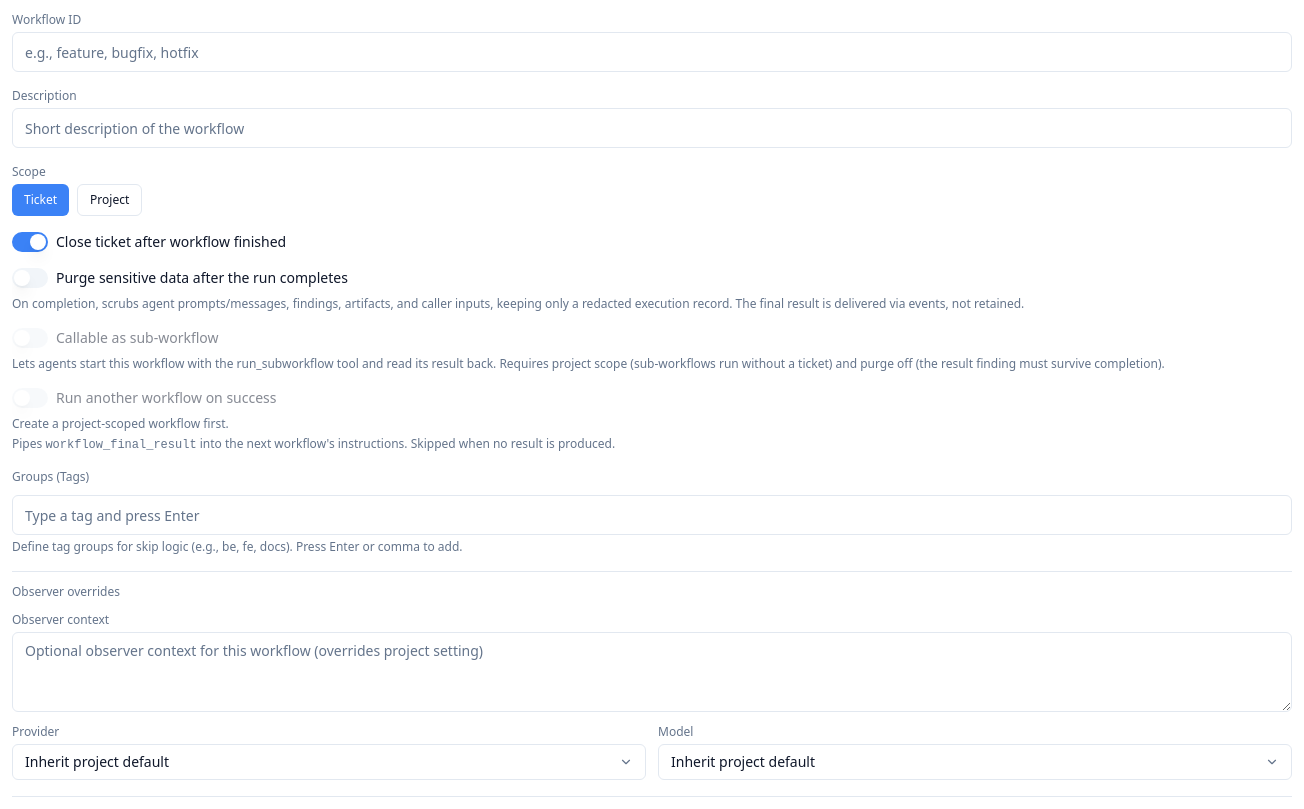
Test: WorkflowDefForm › scope_type toggle › shows info text only when project scope is selected
The width and height of the screenshot is (1304, 809).
Expected: the text "project workflows run without a ticket" is not shown
What coordinates should you click on to do the following:
click the button "Project"
I would click on:
 (110, 200)
Its box is [77, 184, 142, 216].
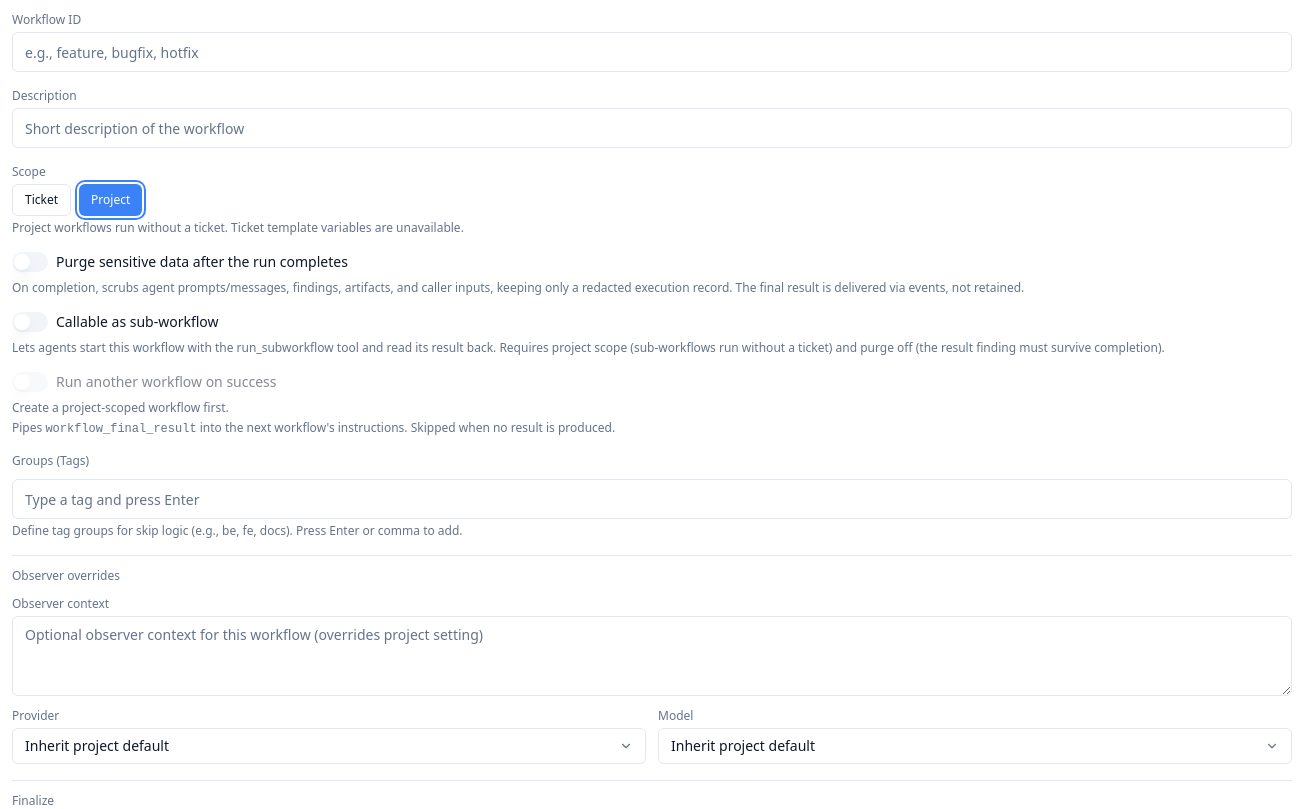
Expected: the text "Project workflows run without a ticket" is shown, [12, 219, 464, 236]
What coordinates should you click on to do the following:
click the button "Ticket"
I would click on:
 (42, 200)
Its box is [12, 184, 71, 216].
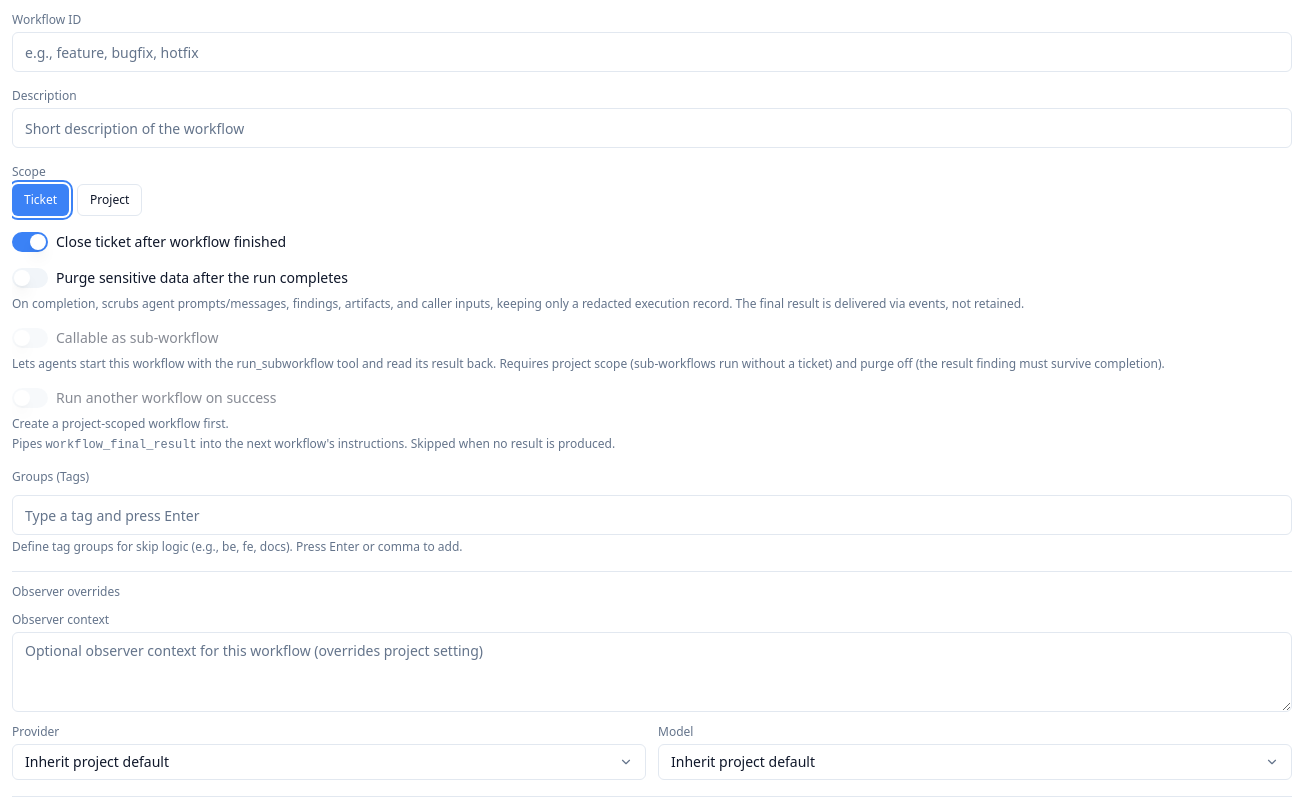
Expected: the text "Project workflows run without a ticket" is gone
